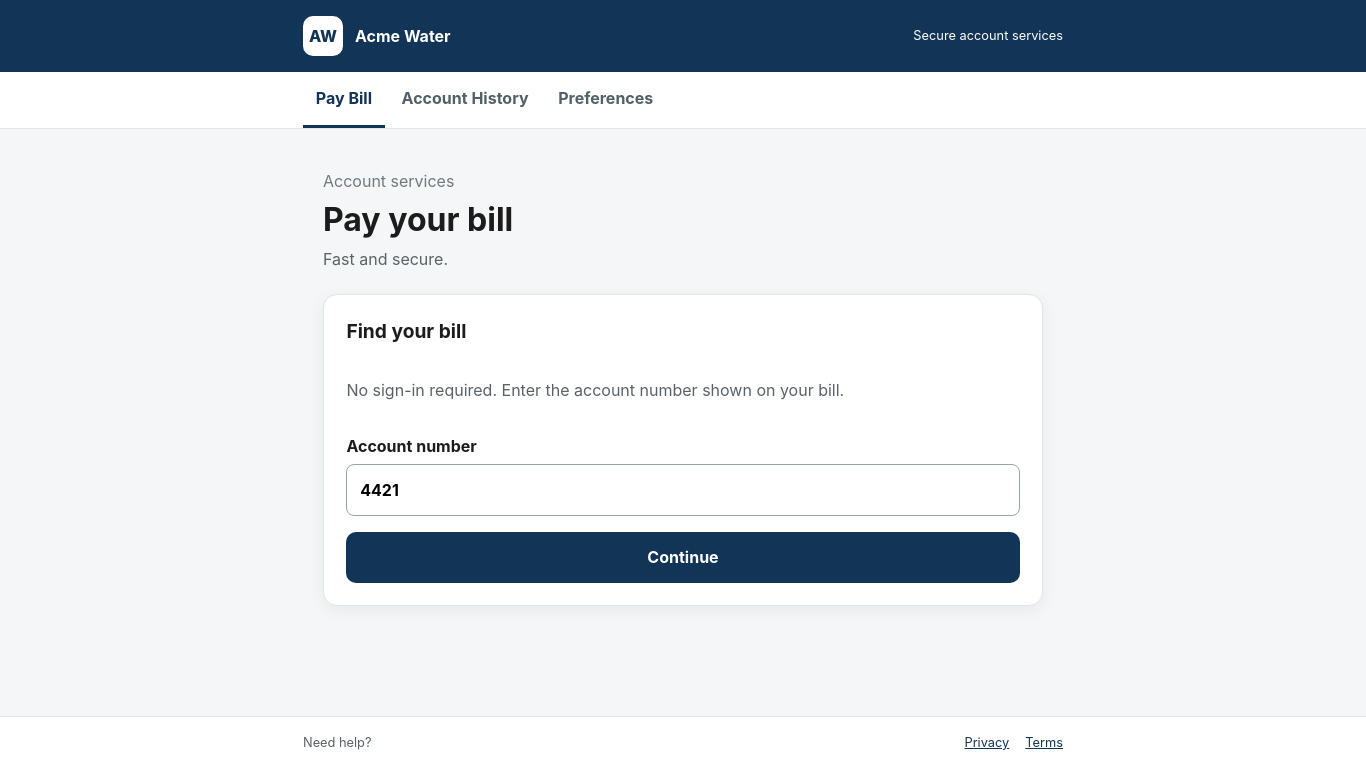
Test: payment success followed by history refresh failure › shows failure only when the payment mutation itself throws
Step 1. Click the button with test id "lookup-submit" → (683, 557), box [346,532,1020,583]
(page scrolled)
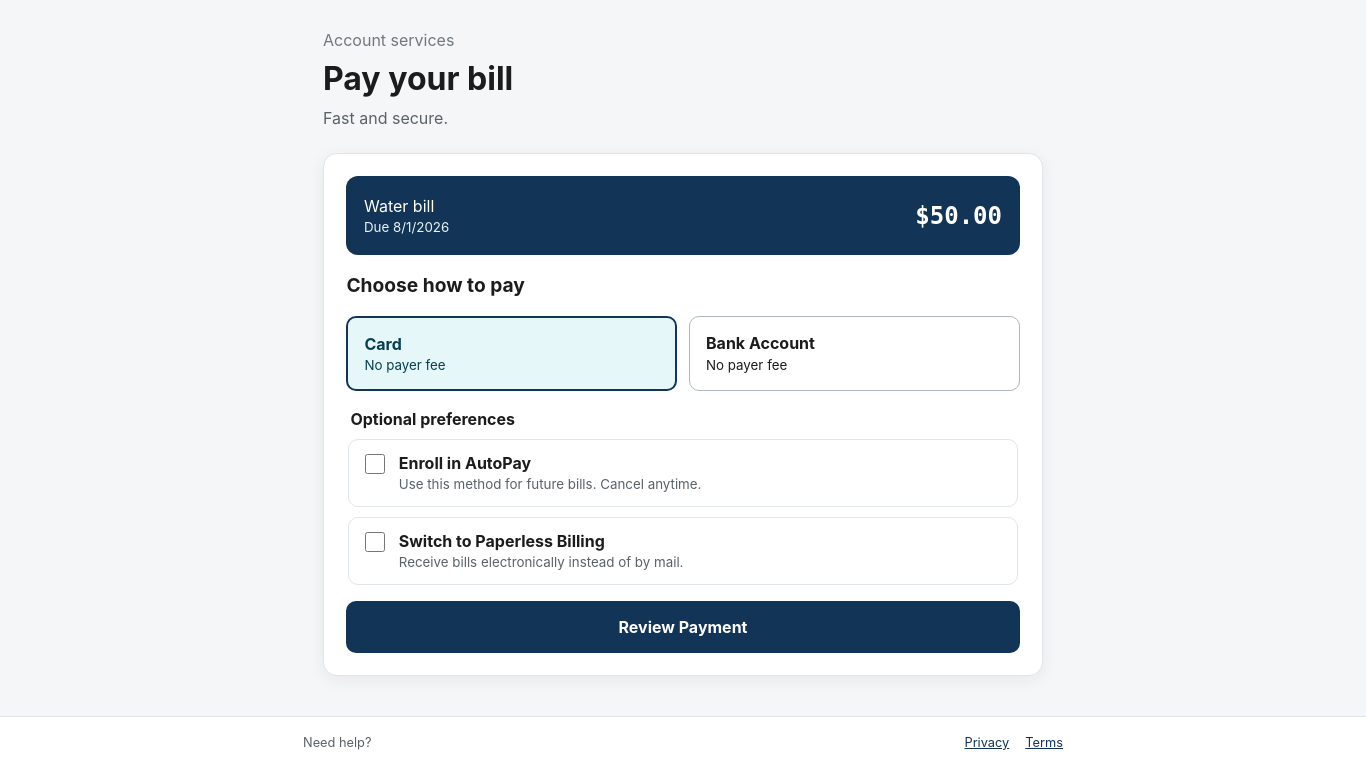
Step 2. Click the button with test id "review-submit" → (683, 627), box [346,601,1020,653]
(page scrolled)
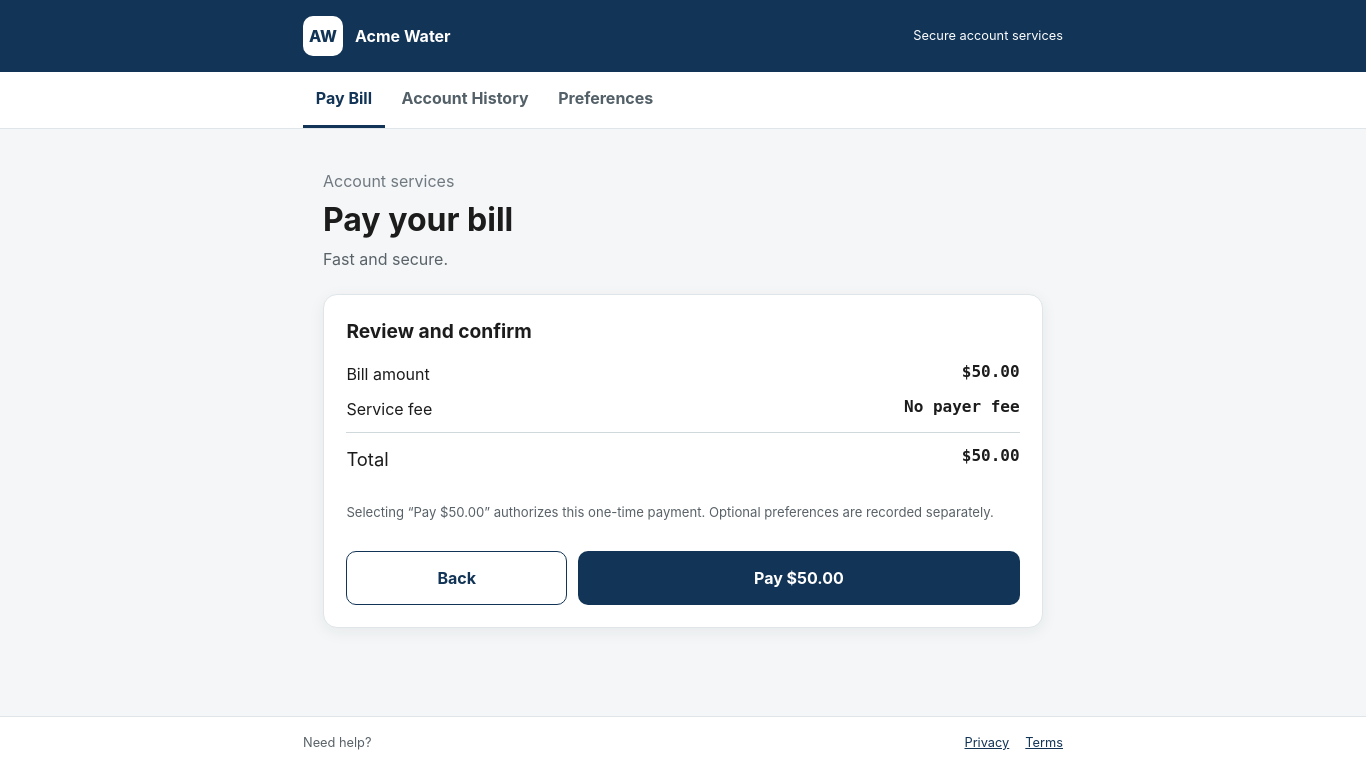
Expected: the button with test id "pay-submit" is shown
Step 3. Click the button with test id "pay-submit" → (799, 578), box [578,551,1020,605]
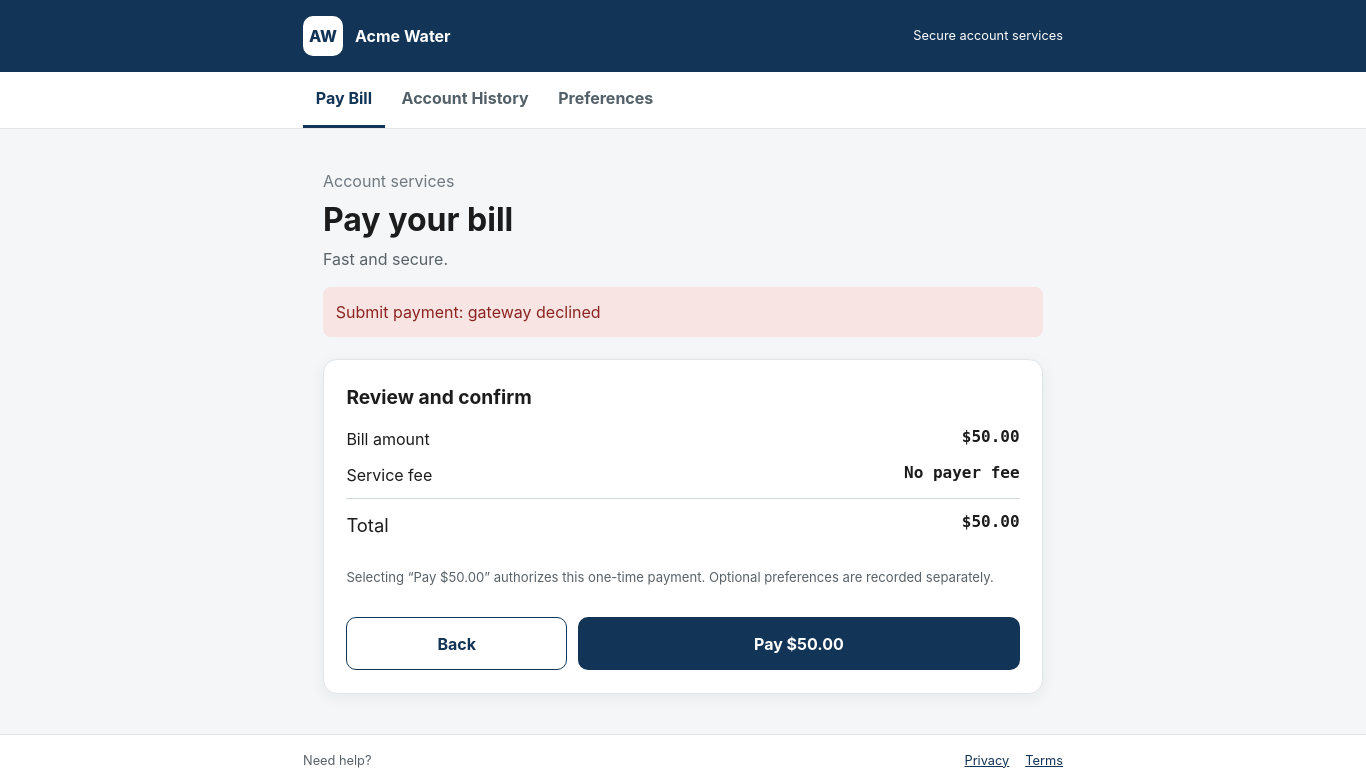
Expected: the message "Submit payment: gateway declined" is shown, [323,287,1043,337]
